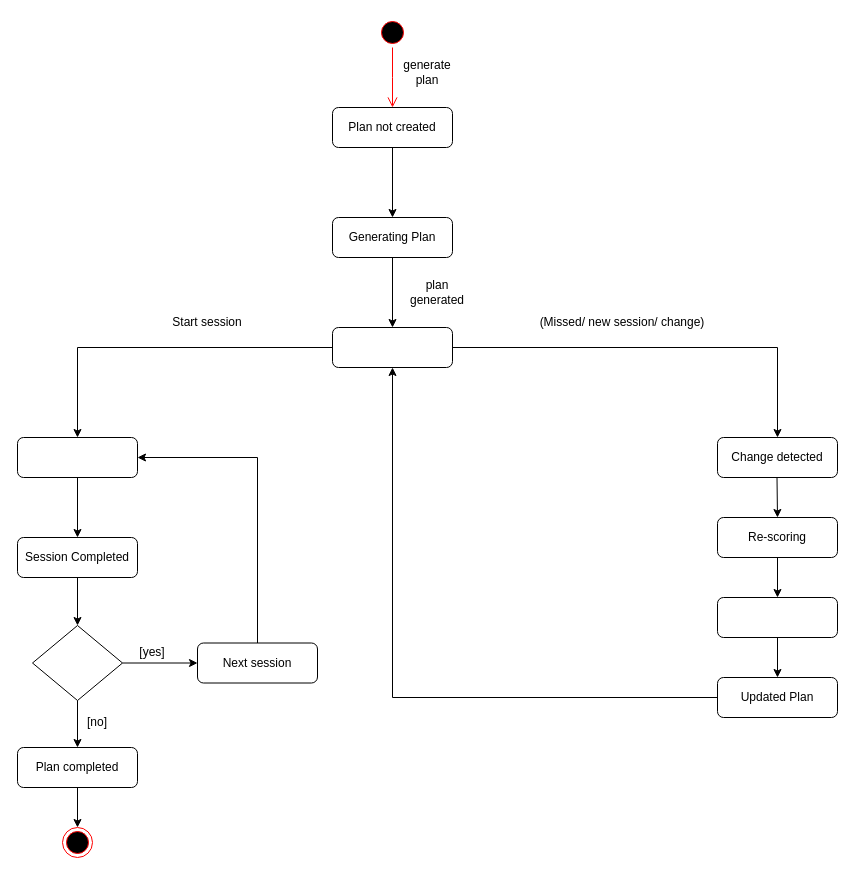
Some shapes in this 855 by 875 pixel diagram are drawn without their labels. The centre of each missing label's shape, as x and y in pixels:
"More sessions?" belongs at point (77, 662).
"Plan Active" belongs at point (392, 347).
"Re-planning" belongs at point (777, 617).
"Session In Progress" belongs at point (77, 457).
